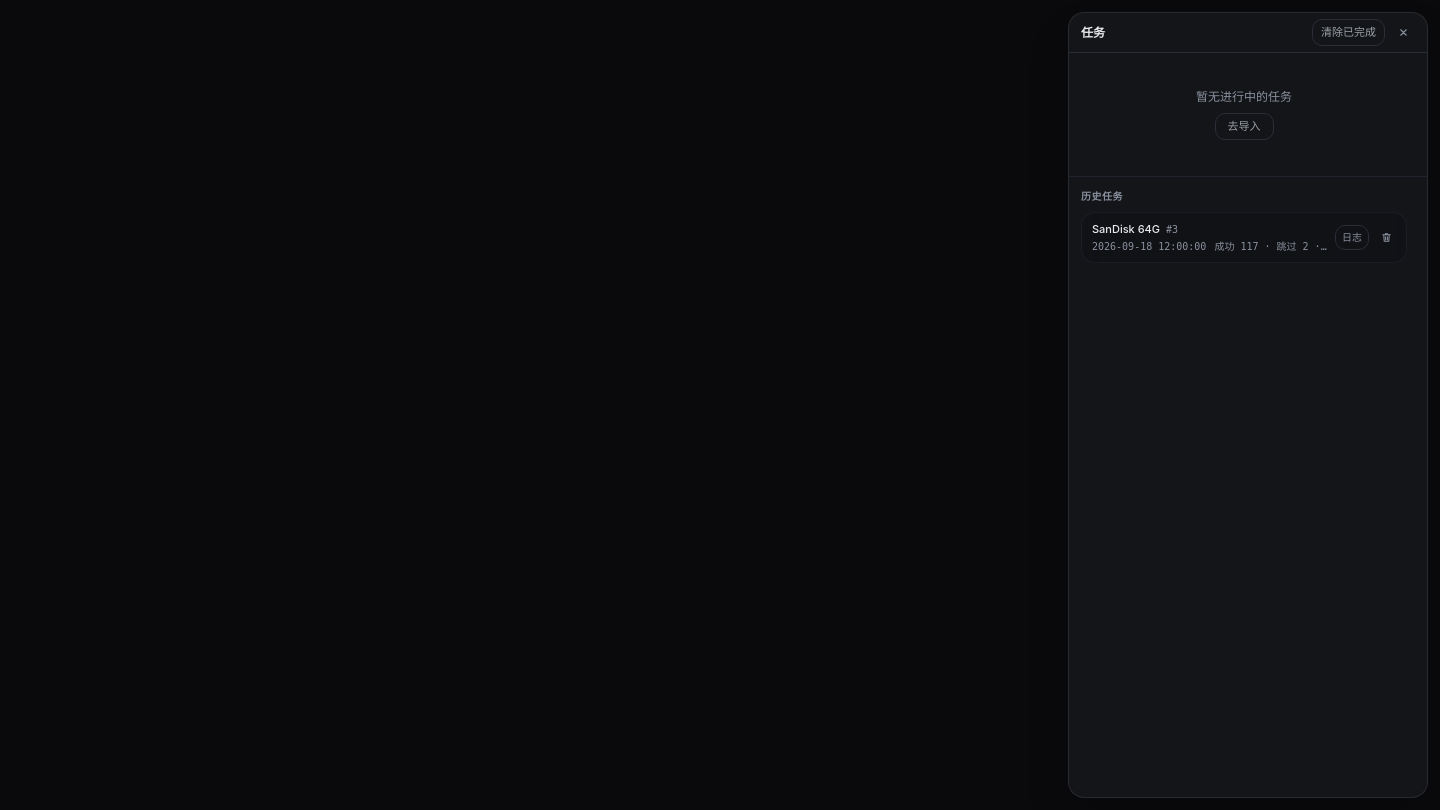
it: 任务抽屉：历史区 › × 删除成功：importJobDelete(id)，行动画退场
Click the button with test id "taskdrawer-history-delete": click(1386, 237) [1377,228,1396,247]
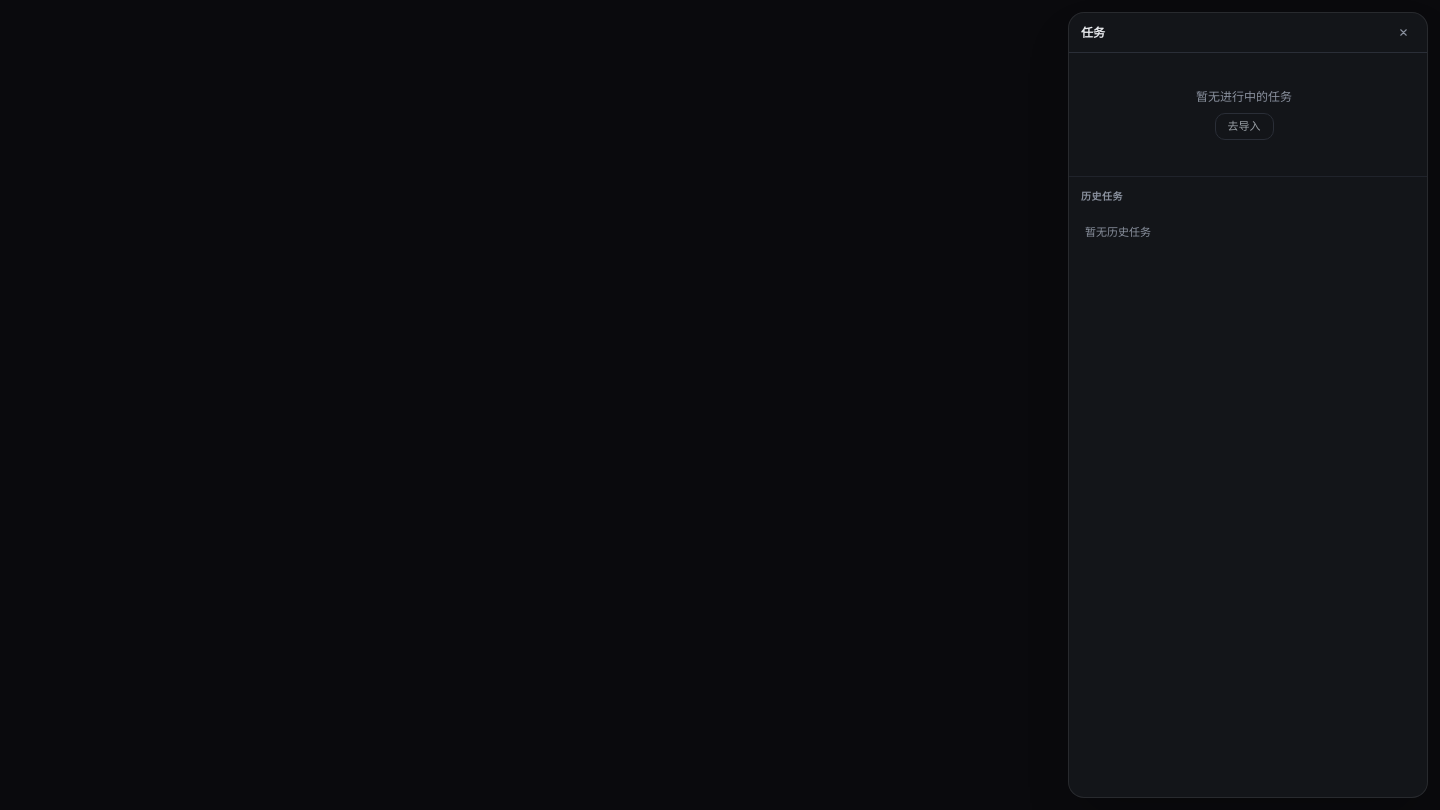
Expected: the element with test id "taskdrawer-history-row" is gone
